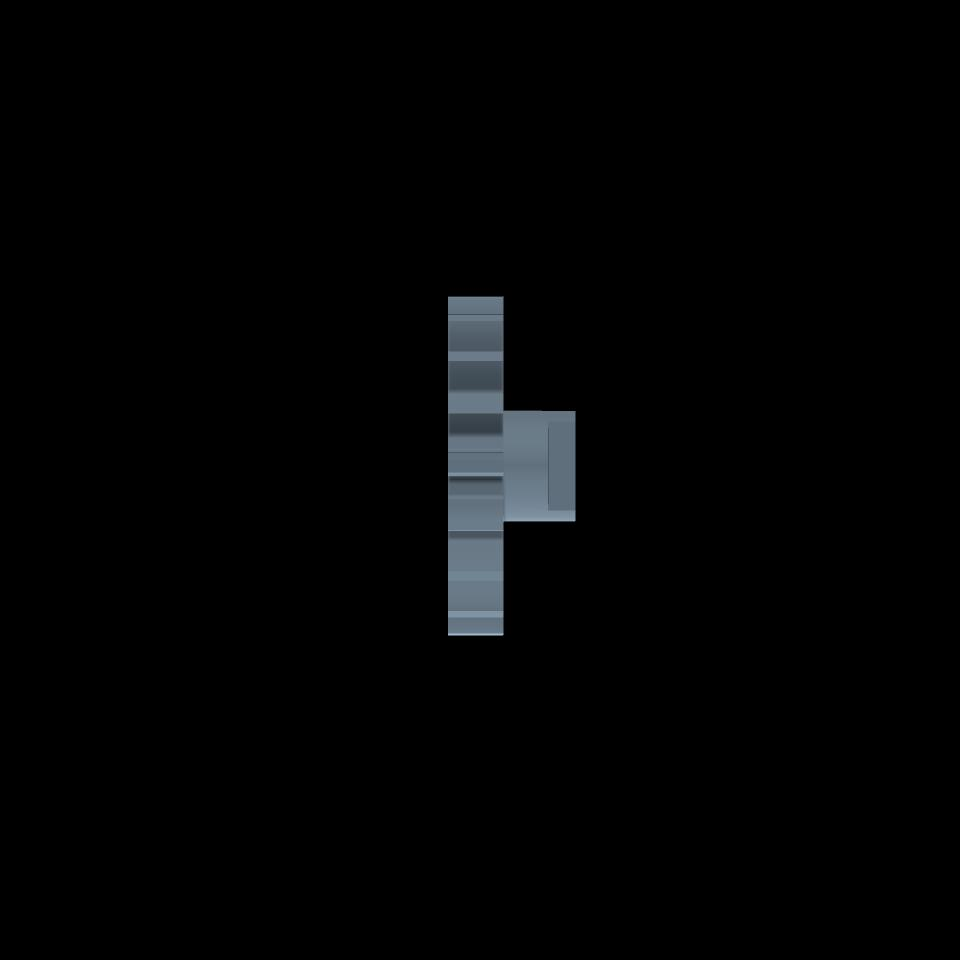Straight: (448, 296, 503, 636)
